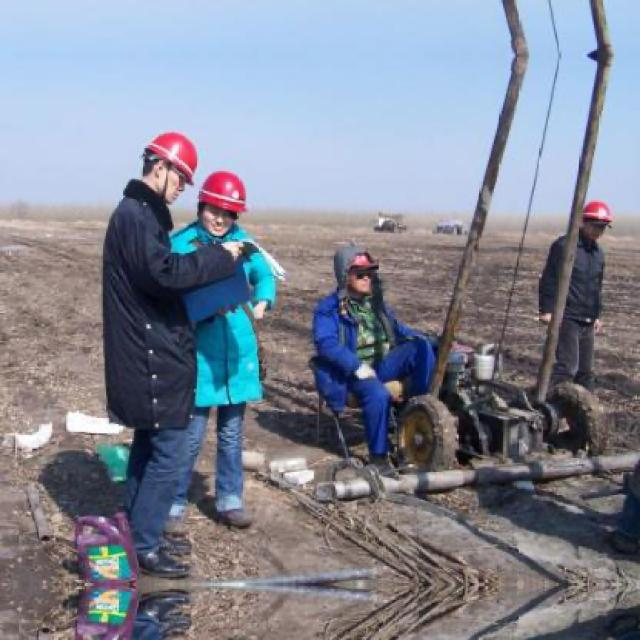con casco: (110, 99, 230, 238), (174, 157, 259, 269), (322, 248, 411, 326), (551, 189, 627, 268)
